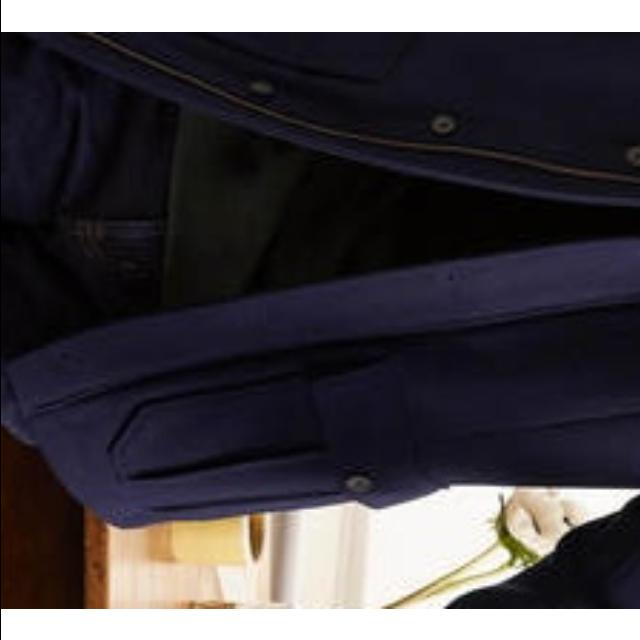wool: (142, 31, 640, 533)
